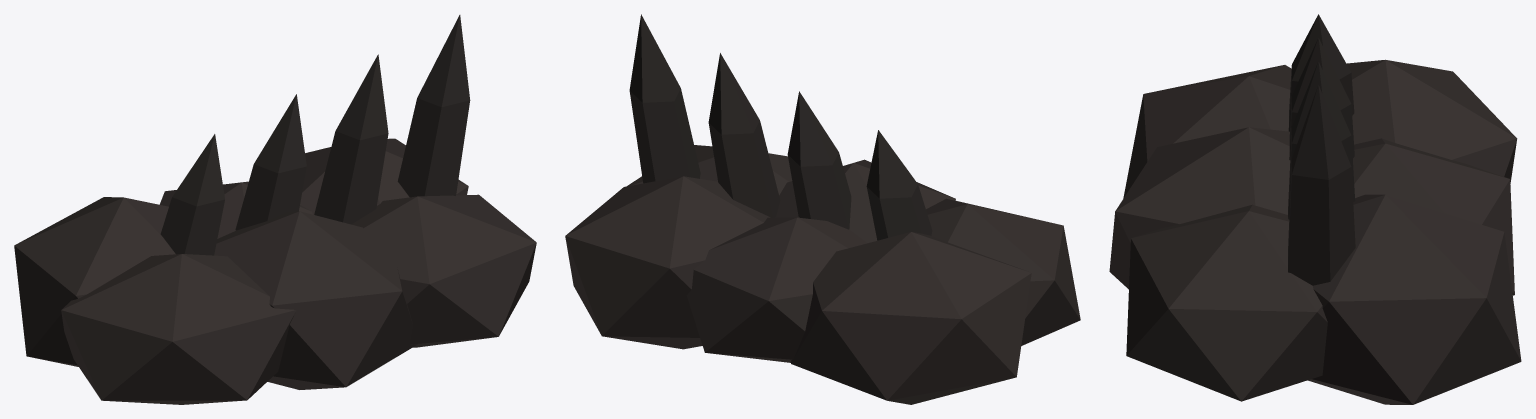
File: RimRock_C.fbx
3 views of the same model, side by side, from view 1: azimuth 30°, elevation 25°; view 2: azimuth 150°, elevation 25°; view 3: azimuth 270°, elevation 25° (orthographic). The views are drawn at different scales.
Parts seen in each view (by area): view 1: RimRock_C; view 2: RimRock_C; view 3: RimRock_C.
Boxes of the visible parts, bbox=[...] form: RimRock_C: bbox=[14, 15, 536, 404]; RimRock_C: bbox=[565, 14, 1080, 404]; RimRock_C: bbox=[1109, 14, 1521, 404].
Size of the model in its own units: 2.37 by 1.55 by 1.6.
Materials: 1 (1 with a texture image).
